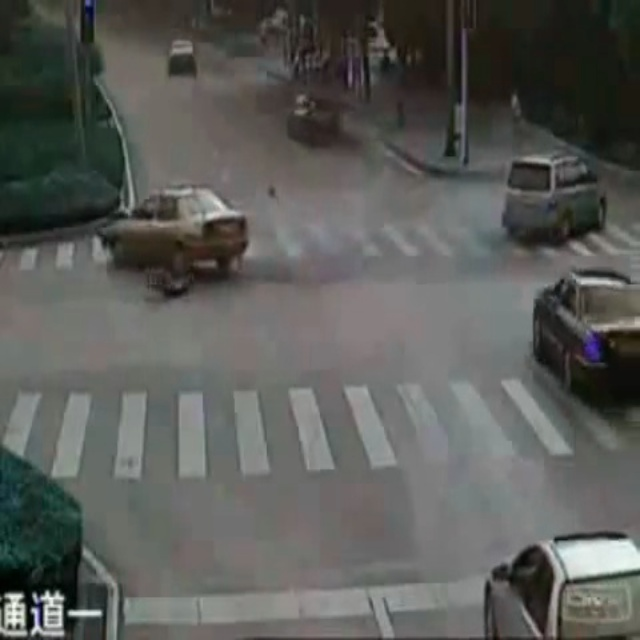acc: (93, 172, 568, 269)
